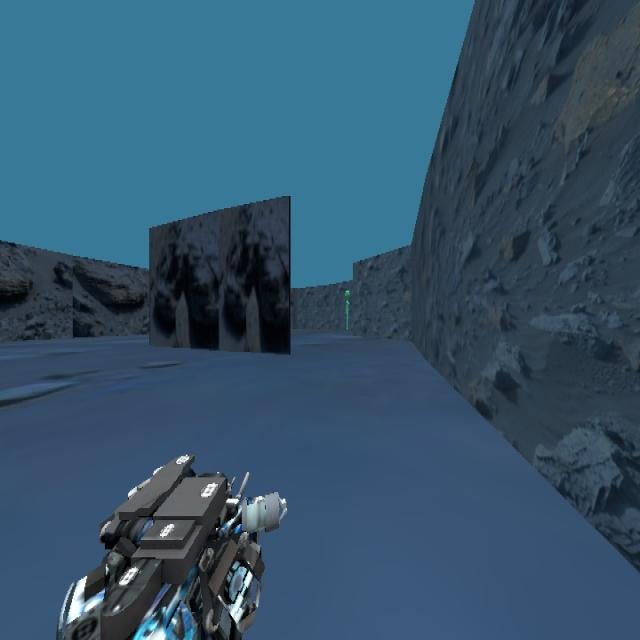Alien: (336, 263, 362, 366)
